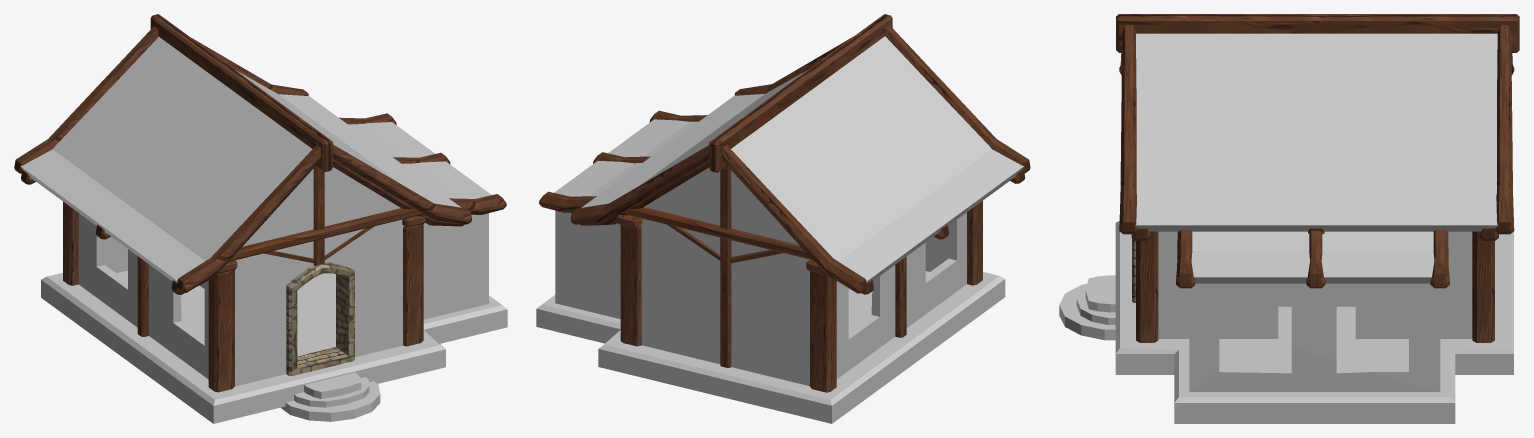
File: House1S.fbx
The picture shows the model from 3 angles, left to right: view 1: azimuth 30°, elevation 25°; view 2: azimuth 150°, elevation 25°; view 3: azimuth 270°, elevation 25°; orthographic projection. The views are drawn at different scales.
Parts seen in each view (by area): view 1: House1sBody, House1sRoof; view 2: House1sBody, House1sRoof; view 3: House1sRoof, House1sBody.
Boxes of the visible parts, <box> form: House1sBody: <box>41,166,507,423</box>; House1sRoof: <box>14,14,506,294</box>; House1sBody: <box>536,166,1005,423</box>; House1sRoof: <box>539,14,1030,294</box>; House1sRoof: <box>1116,14,1519,288</box>; House1sBody: <box>1059,221,1513,423</box>.
Bounding box in the file's own units: 1405 × 995 × 1387.
